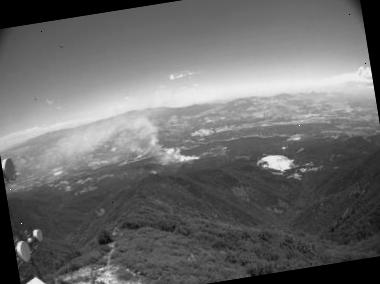smoke: (20, 100, 206, 189)
